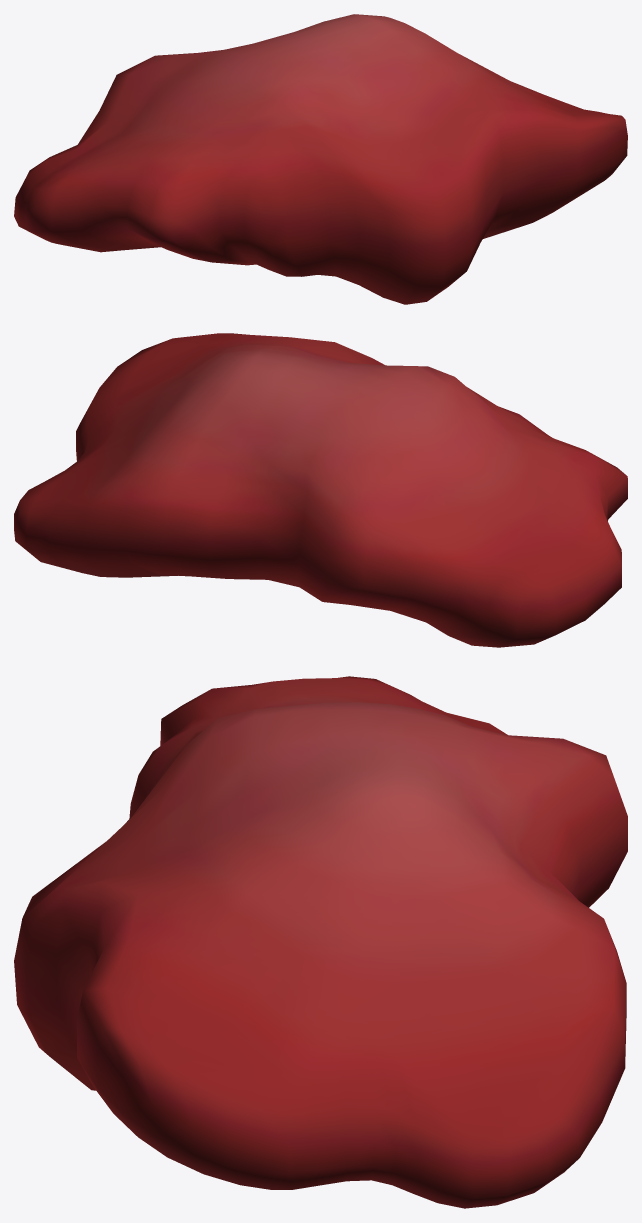
Rendered from M_Moss_01.fbx.
The picture shows the model from 3 angles, top to bottom: view 1: azimuth 30°, elevation 25°; view 2: azimuth 150°, elevation 25°; view 3: azimuth 270°, elevation 25°; orthographic projection. The views are drawn at different scales.
Visible parts, largest first — view 1: M_Moss_01; view 2: M_Moss_01; view 3: M_Moss_01.
Boxes of the visible parts, x1,y1,x2,y2 form: M_Moss_01: [14, 14, 627, 304]; M_Moss_01: [14, 333, 627, 647]; M_Moss_01: [14, 676, 627, 1208].
Size of the model in its own units: 259 by 98.11 by 164.
1 material, 1 textured.
